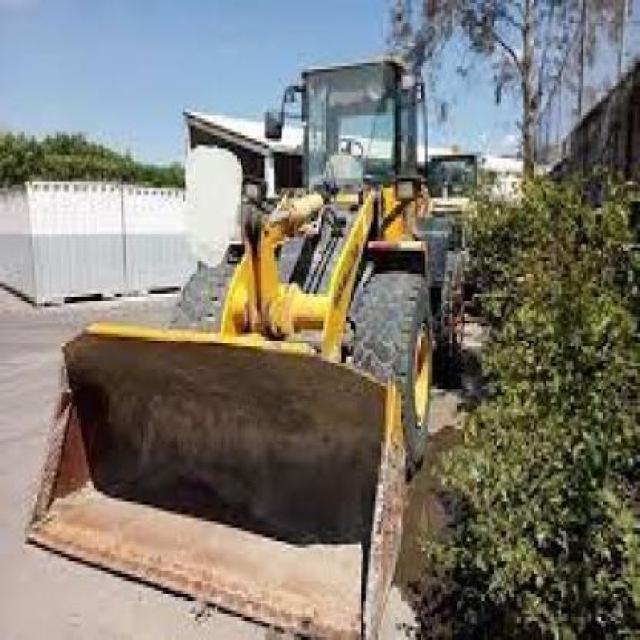buldozerpayloadergrader: (18, 54, 494, 626)
